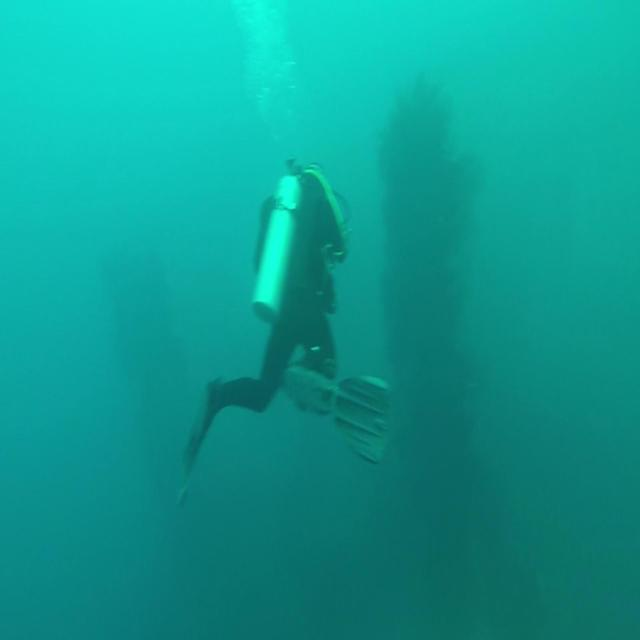human: (176, 156, 390, 507)
